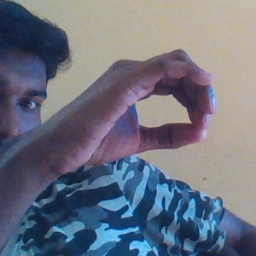O: (55, 44, 220, 179)
